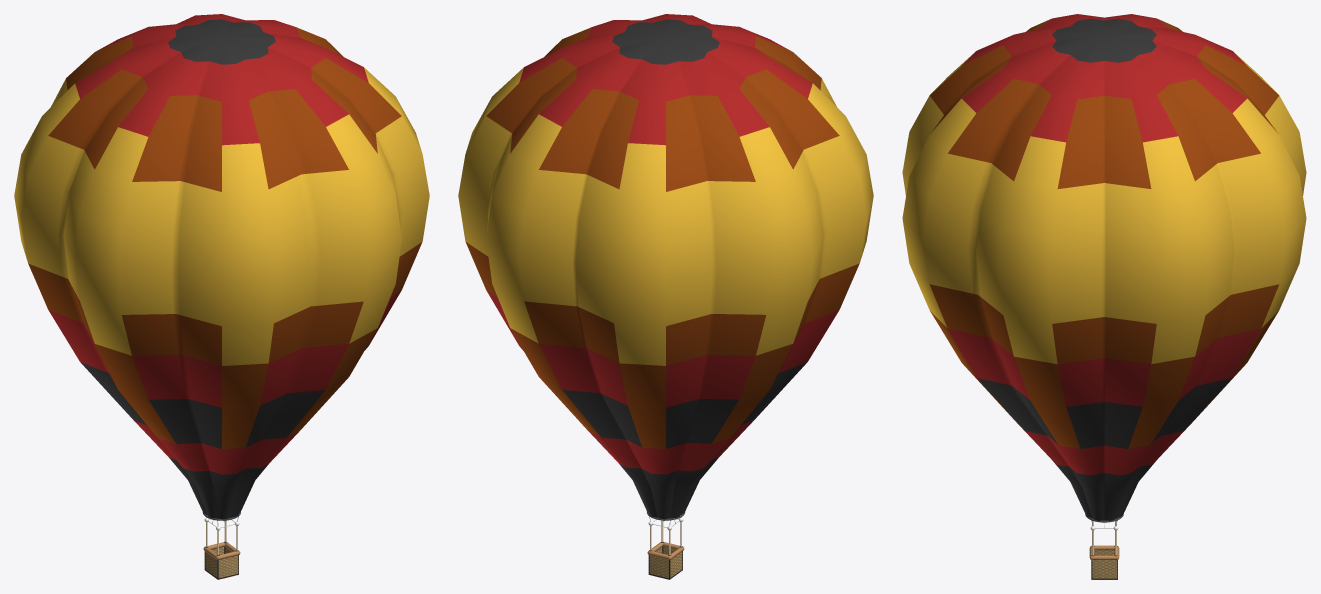
Rendered from hotAirBalloon.gltf.
3 views of the same model, side by side, from view 1: azimuth 30°, elevation 25°; view 2: azimuth 150°, elevation 25°; view 3: azimuth 270°, elevation 25° (orthographic).
Parts seen in each view (by area): view 1: envelopeMainBand, envelopeMidBand, envelopeTopBand, envelopeBottomBand; view 2: envelopeMainBand, envelopeMidBand, envelopeTopBand, envelopeBottomBand; view 3: envelopeMainBand, envelopeMidBand, envelopeTopBand, envelopeBottomBand.
Boxes of the visible parts, left/top/right/bottom form: envelopeMainBand: left=14, top=67, right=429, bottom=365; envelopeMidBand: left=28, top=27, right=422, bottom=448; envelopeTopBand: left=48, top=14, right=401, bottom=474; envelopeBottomBand: left=80, top=19, right=368, bottom=519; envelopeMainBand: left=458, top=67, right=873, bottom=365; envelopeMidBand: left=465, top=27, right=859, bottom=448; envelopeTopBand: left=486, top=14, right=839, bottom=474; envelopeBottomBand: left=519, top=19, right=807, bottom=519; envelopeMainBand: left=902, top=53, right=1306, bottom=364; envelopeMidBand: left=929, top=19, right=1279, bottom=448; envelopeTopBand: left=948, top=14, right=1260, bottom=475; envelopeBottomBand: left=977, top=18, right=1231, bottom=520.
Bounding box in the file's own units: 22.42 × 33.04 × 22.42.
17 materials, 3 textured.
